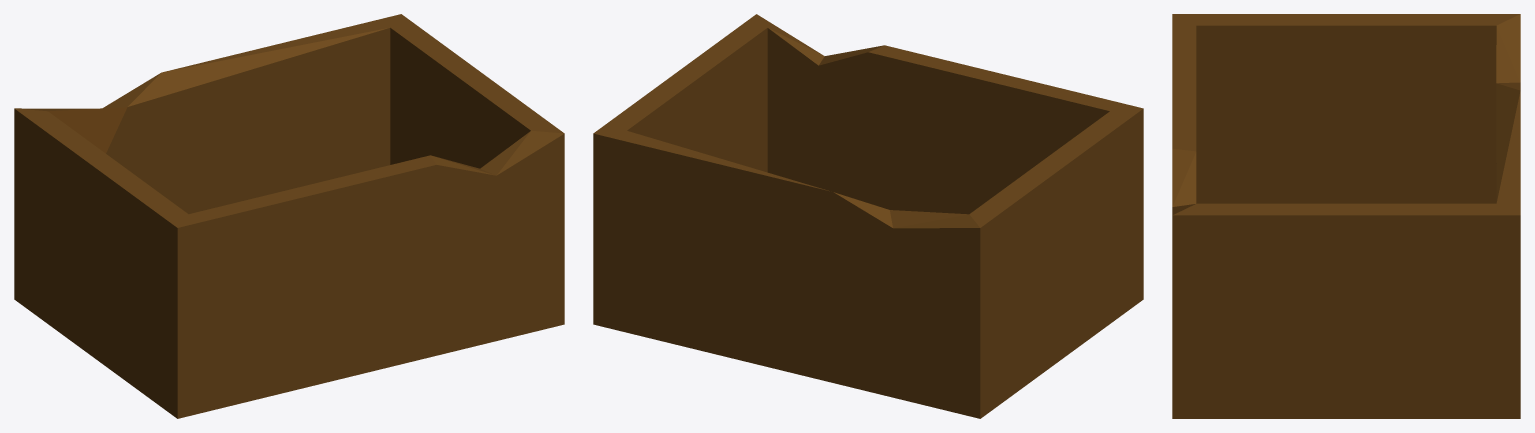
Rendered from Flat_Box_open_01.fbx.
The picture shows the model from 3 angles, left to right: view 1: azimuth 30°, elevation 25°; view 2: azimuth 150°, elevation 25°; view 3: azimuth 270°, elevation 25°; orthographic projection. The views are drawn at different scales.
Parts seen in each view (by area): view 1: Box_open_01; view 2: Box_open_01; view 3: Box_open_01.
Part boxes in pixels (x1,y1,x2,y2): Box_open_01: (14,14,564,418); Box_open_01: (593,14,1143,418); Box_open_01: (1172,14,1520,418).
Bounding box in the file's own units: 176 × 83.06 × 129.
